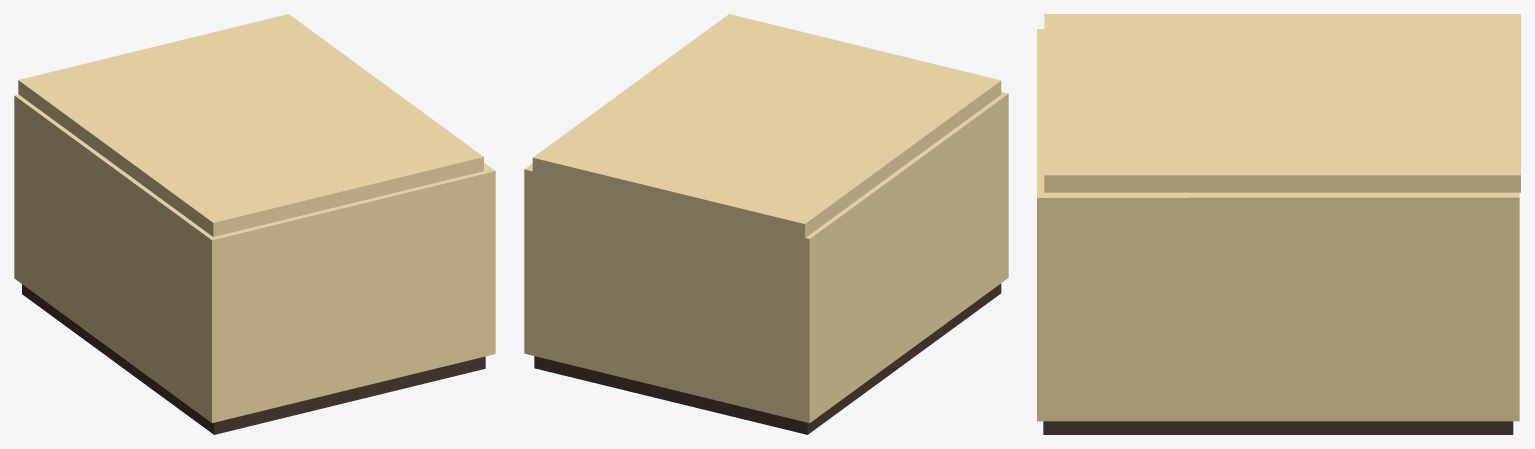
The model's file is FloorPlan29_physics.fbx.
The picture shows the model from 3 angles, left to right: view 1: azimuth 30°, elevation 25°; view 2: azimuth 150°, elevation 25°; view 3: azimuth 270°, elevation 25°; orthographic projection. The views are drawn at different scales.
Visible parts, largest first — view 1: Walls, Ceiling, Floor; view 2: Walls, Ceiling, Floor; view 3: Walls, Ceiling, Floor.
Part boxes in pixels (box(x1,y1,x2,y2)): Walls: box(14, 94, 495, 422); Ceiling: box(18, 14, 483, 236); Floor: box(22, 284, 485, 434); Walls: box(524, 92, 1008, 423); Ceiling: box(532, 14, 1001, 238); Floor: box(534, 283, 1001, 434); Walls: box(1037, 29, 1519, 421); Ceiling: box(1044, 14, 1520, 192); Floor: box(1043, 421, 1513, 434).
Size of the model in its own units: 428 by 305 by 517.
